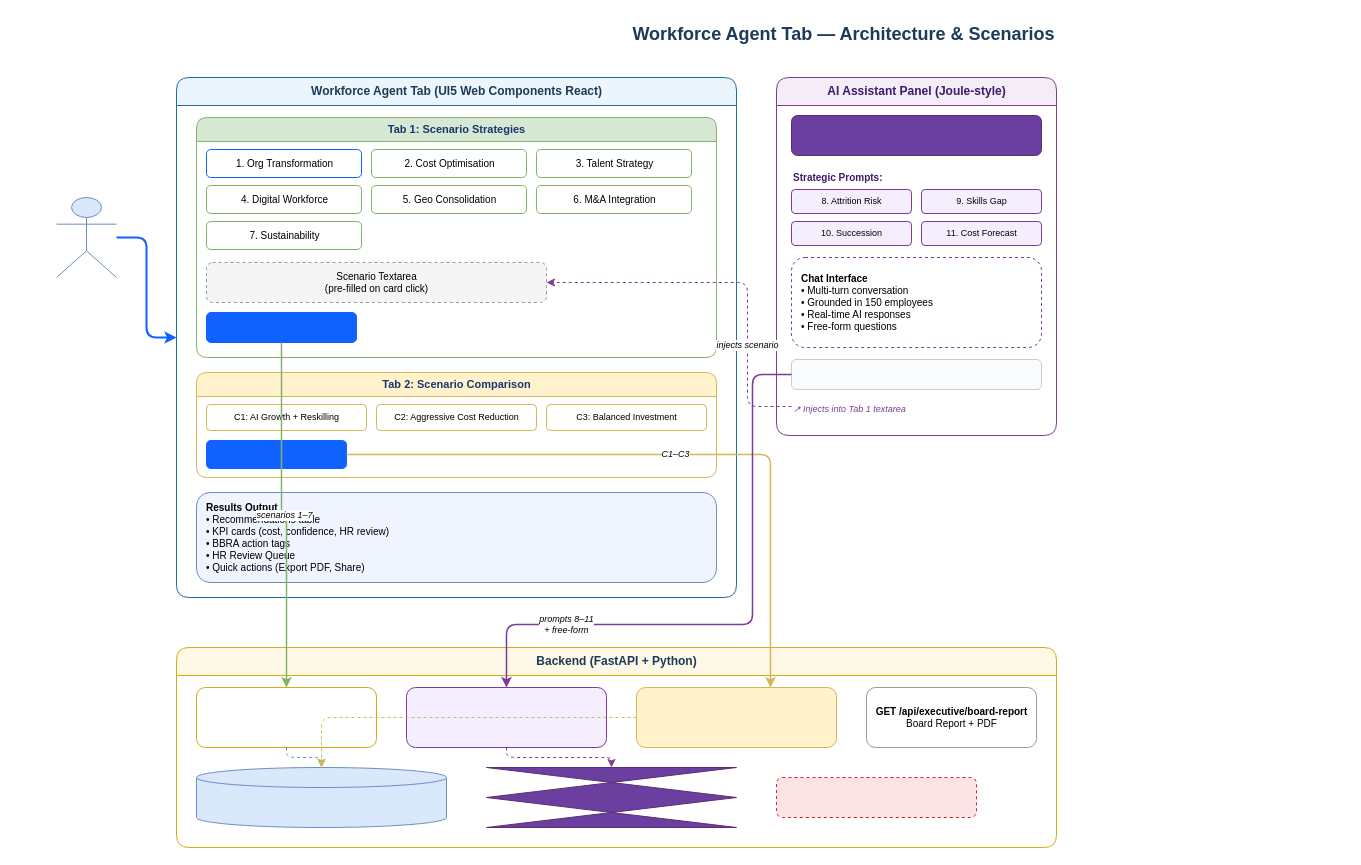
The diagram is 1361 pixels wide and 865 high, and some of its shapes have lost their labels. The centre of each missing label's shape, as x and y in pixels:
"Anthropic Claude claude-sonnet-4-20250514 via Hyperspace (localhost:6655)" goes at pixel 611 797.
"Ask Joule about your workforce…" goes at pixel 916 374.
"Claude AI (claude-sonnet-4) via Hyperspace Proxy" goes at pixel 916 135.
"Compare Scenarios" goes at pixel 276 454.
"Data Layer employees.csv (150 records) future_roles.json | skills_taxonomy.json" goes at pixel 321 797.
"Executive Persona (CHRO / CEO / CFO / COO)" goes at pixel 86 237.
"Fallback: simulated responses (if proxy unavailable)" goes at pixel 876 797.
"POST /api/analyze Rule-based BBRA engine Scenarios 1–7" goes at pixel 286 717.
"POST /api/joule/chat Claude AI (Anthropic SDK) Scenarios 8–11 + free-form" goes at pixel 506 717.
"POST /api/scenarios/compare Multi-scenario comparison Scenarios C1–C3" goes at pixel 736 717.
"Run Workforce Agent" goes at pixel 281 327.
